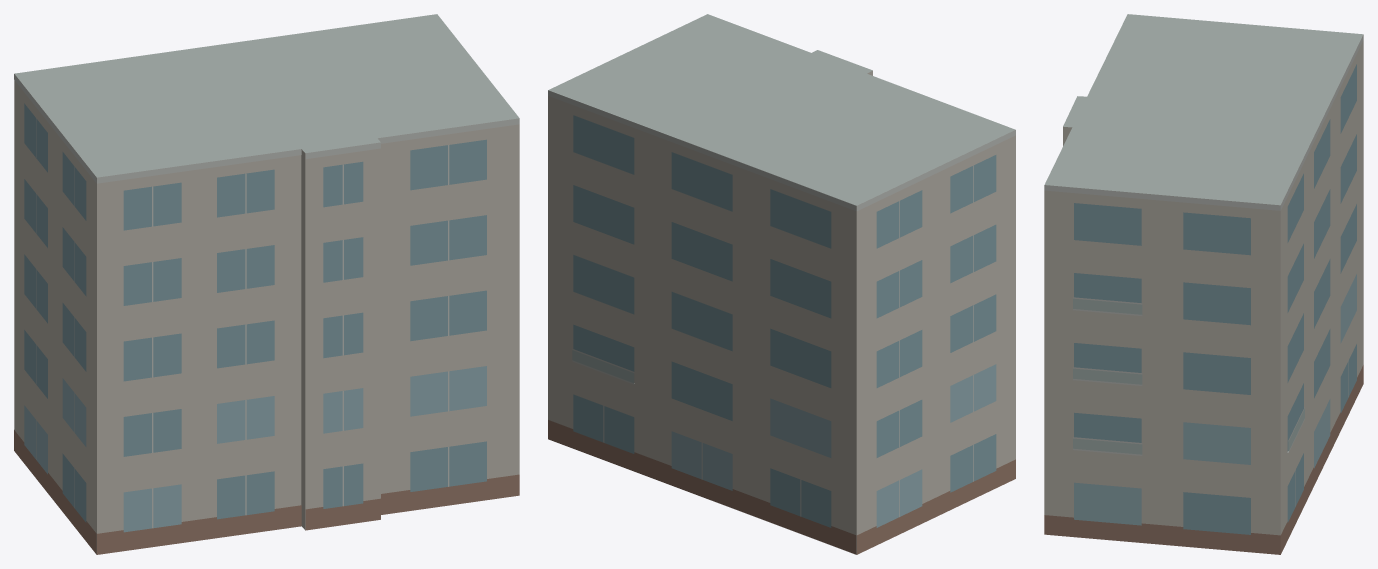
File: survey-upis-33007359.glb
3 renders of one model, left to right at view 1: azimuth 30°, elevation 25°; view 2: azimuth 150°, elevation 25°; view 3: azimuth 270°, elevation 25°, orthographic. The views are drawn at different scales.
Parts seen in each view (by area): view 1: survey-upis-33007359.tmp; view 2: survey-upis-33007359.tmp; view 3: survey-upis-33007359.tmp.
Boxes of the visible parts, bbox=[...] form: survey-upis-33007359.tmp: bbox=[14, 14, 519, 554]; survey-upis-33007359.tmp: bbox=[548, 14, 1015, 554]; survey-upis-33007359.tmp: bbox=[1044, 14, 1363, 554].
Size of the model in its own units: 17.91 by 15.25 by 12.63.
